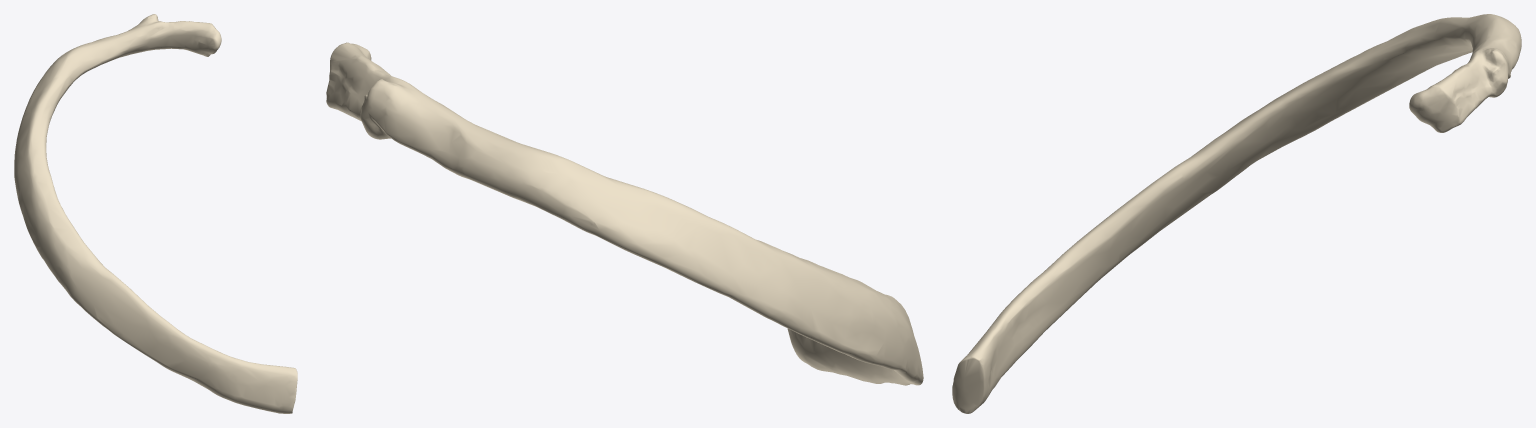
The model's file is third-rib-r.glb.
The picture shows the model from 3 angles, left to right: view 1: azimuth 30°, elevation 25°; view 2: azimuth 150°, elevation 25°; view 3: azimuth 270°, elevation 25°; orthographic projection. The views are drawn at different scales.
Parts seen in each view (by area): view 1: Third rib.r; view 2: Third rib.r; view 3: Third rib.r.
Boxes of the visible parts, x1,y1,x2,y2 form: Third rib.r: (14, 14, 297, 413); Third rib.r: (326, 42, 923, 385); Third rib.r: (952, 14, 1521, 413).
Bounding box in the file's own units: 0.0955 × 0.1058 × 0.1392.
